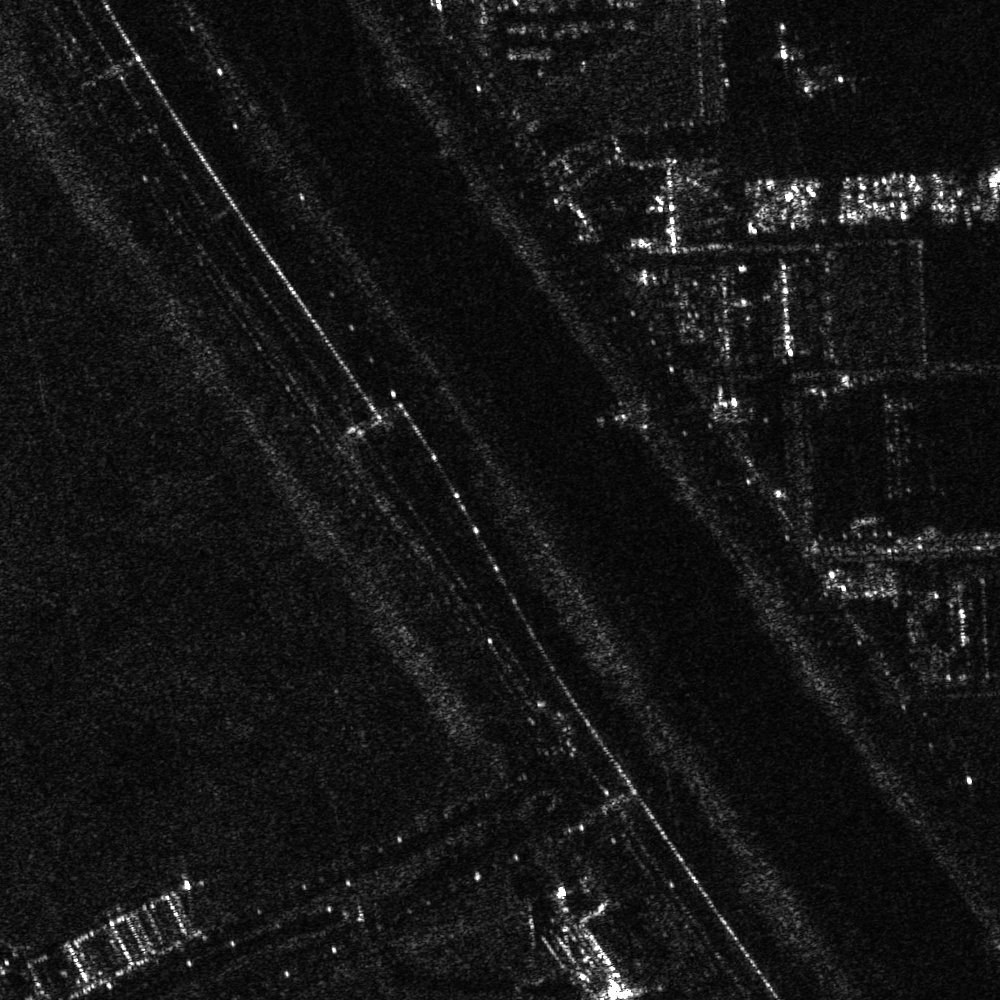A220: (761, 19, 807, 73)
other: (783, 69, 849, 103)
